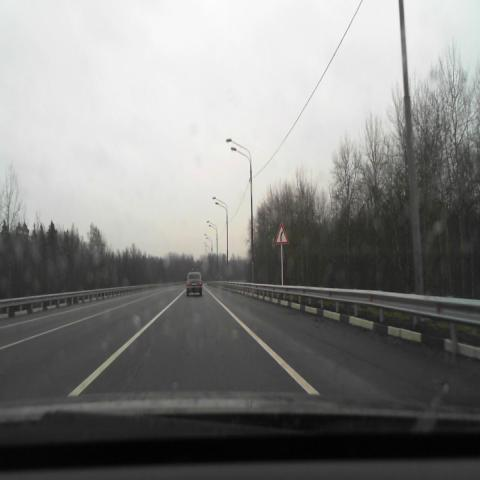1_11: (274, 223, 288, 244)
